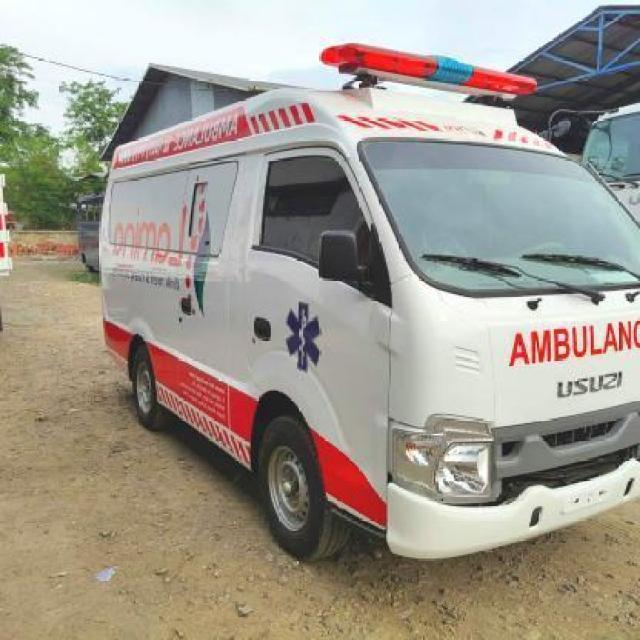emergency: (95, 42, 639, 566)
